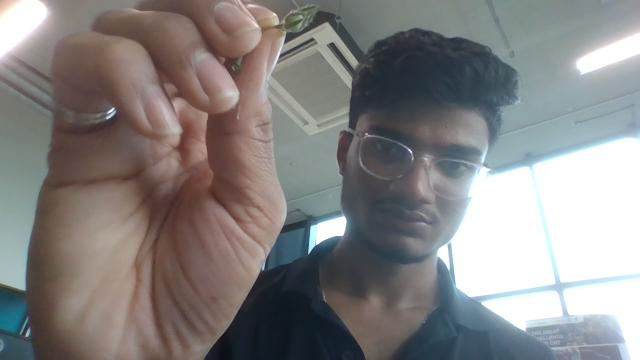Fruit Bud: (283, 13, 305, 31)
